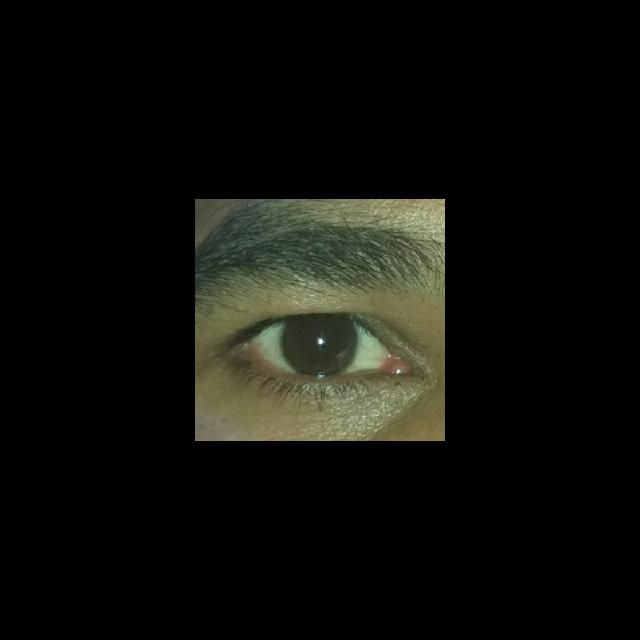eye: (245, 312, 390, 379)
iris: (282, 315, 358, 376)
